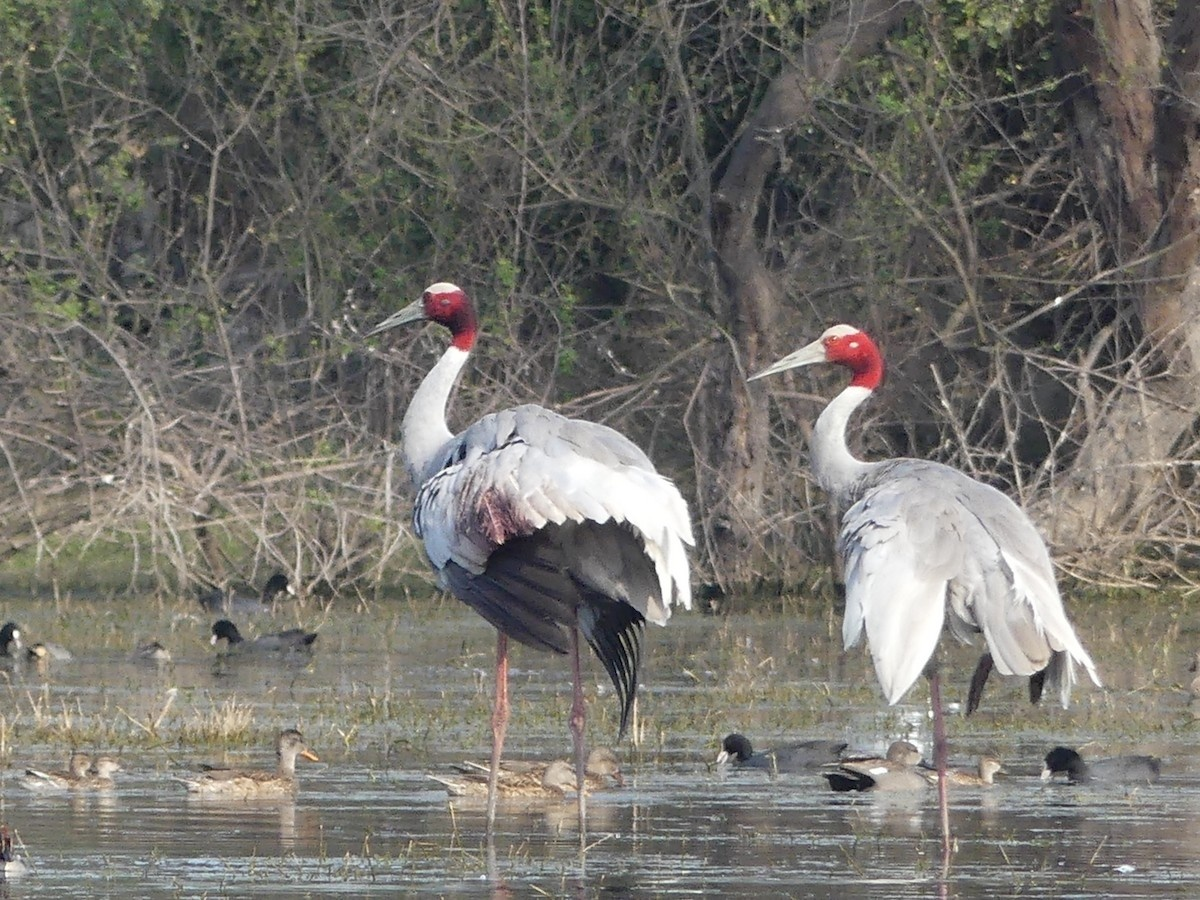crane: (357, 269, 717, 775), (750, 311, 1095, 769)
